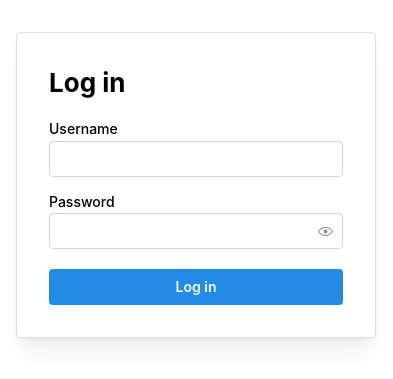
it: LoginPage › shows an inline error on failed login and does not navigate
Type "rchernan" into the field labelled "Username" at (196, 158), box [49,140,343,176]
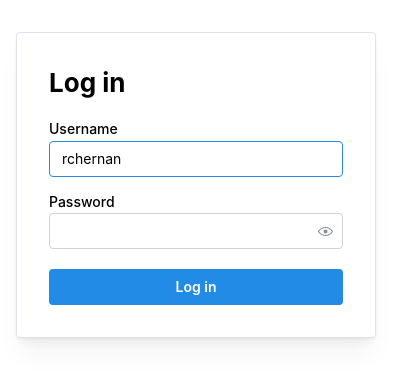
Type "wrong-password" into the password field labelled "Password" at (196, 231), box [50,214,342,248]
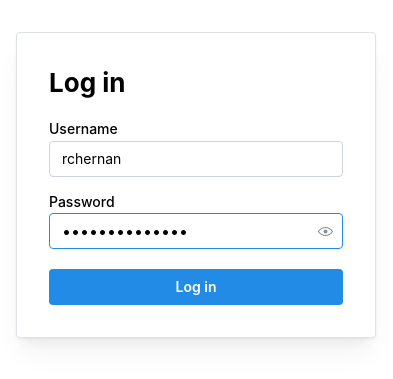
Click the button "Log in" at (196, 287), box [49,269,343,305]
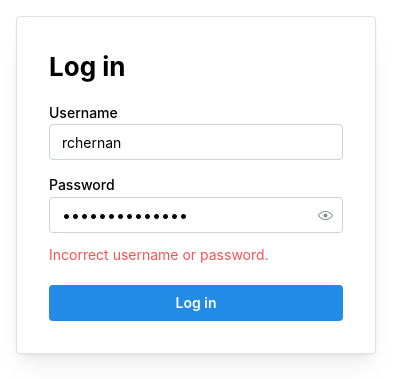
Expected: the text "Incorrect username or password." is shown, [49,246,269,263]
